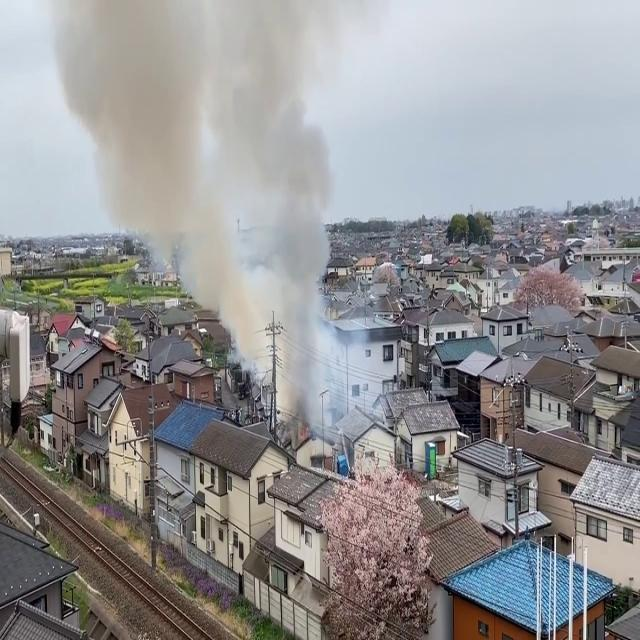Smoke: (50, 0, 366, 431)
